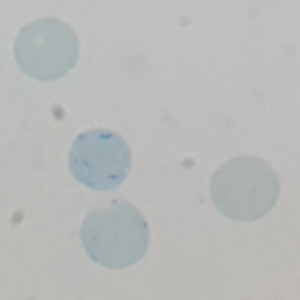aggregate reticulocyte: (66, 128, 133, 192)
erythrocyte: (207, 153, 281, 223), (12, 15, 81, 83)
punctate reticulocyte: (78, 196, 152, 271)
